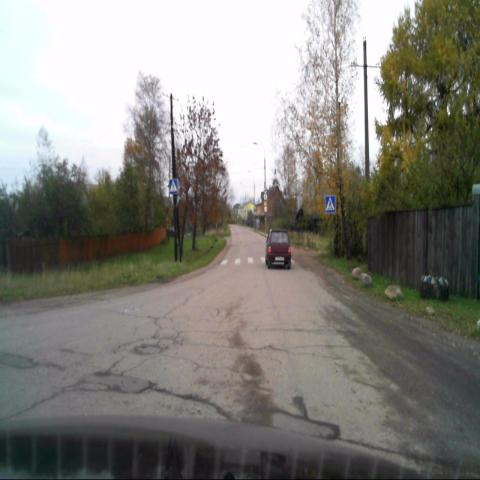5_19_1: (324, 196, 334, 213), (169, 178, 178, 194)
